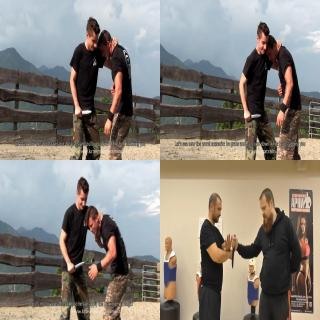knife: (66, 258, 85, 274), (243, 111, 262, 124), (230, 232, 236, 270), (74, 107, 92, 119)
